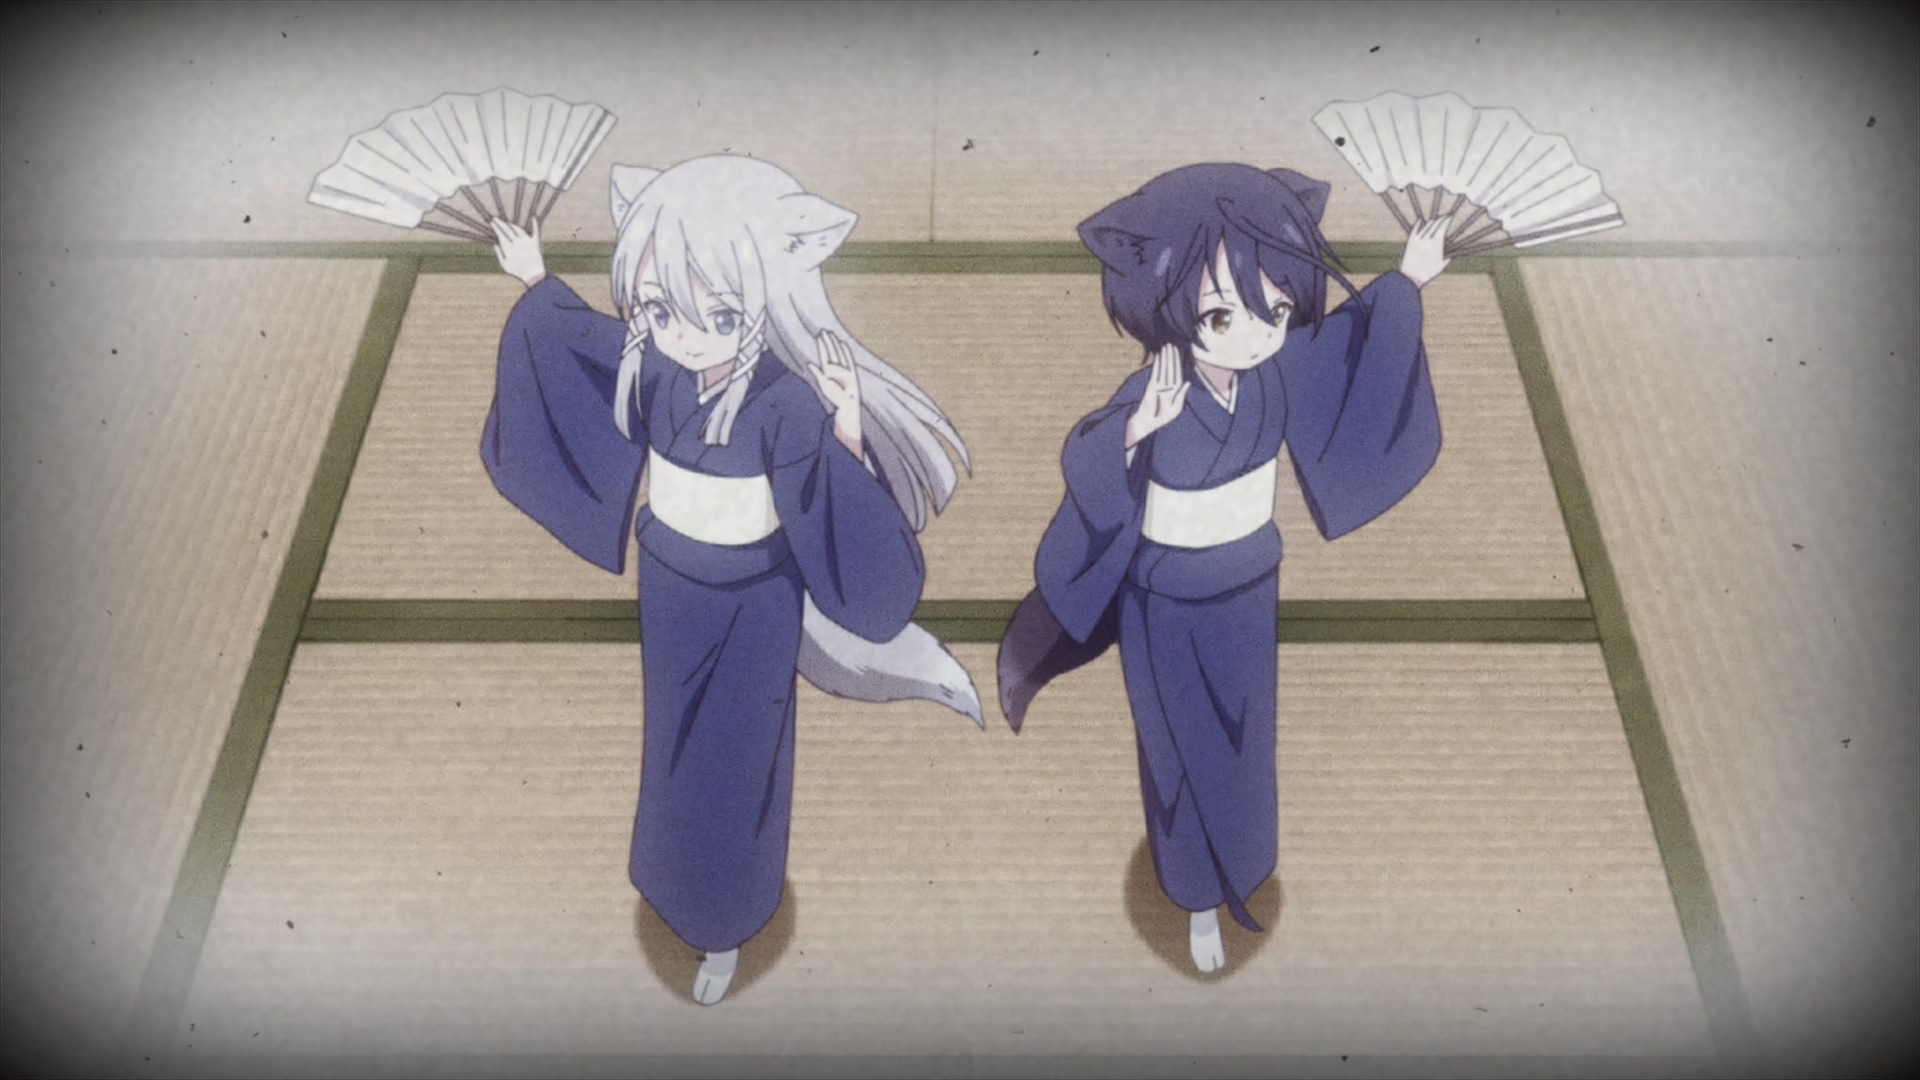柊: (477, 153, 986, 1004)
皋: (997, 164, 1452, 980)
